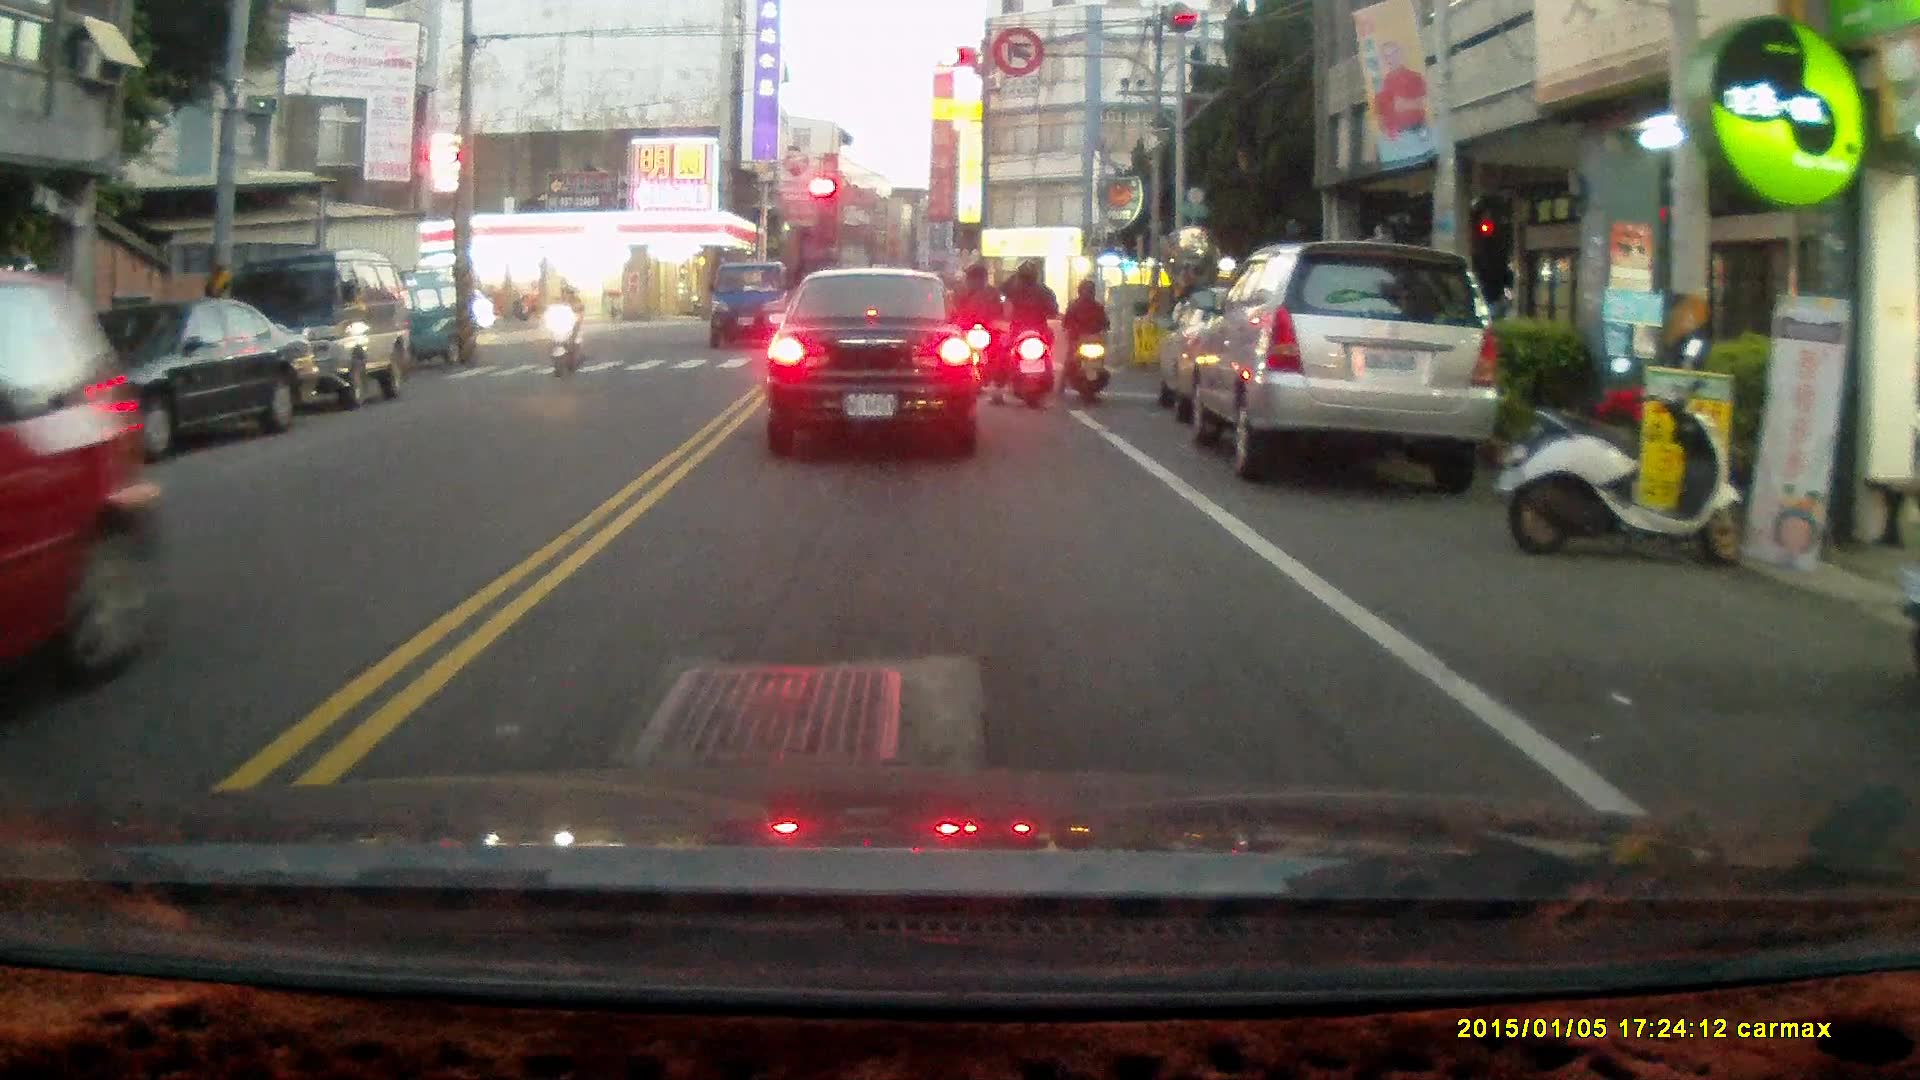rider: (989, 257, 1062, 414), (1056, 275, 1113, 404), (949, 263, 999, 391), (551, 282, 586, 379)
vehicle: (1, 263, 174, 720), (1177, 241, 1494, 484), (36, 297, 304, 466), (770, 267, 987, 455), (198, 246, 408, 406)
